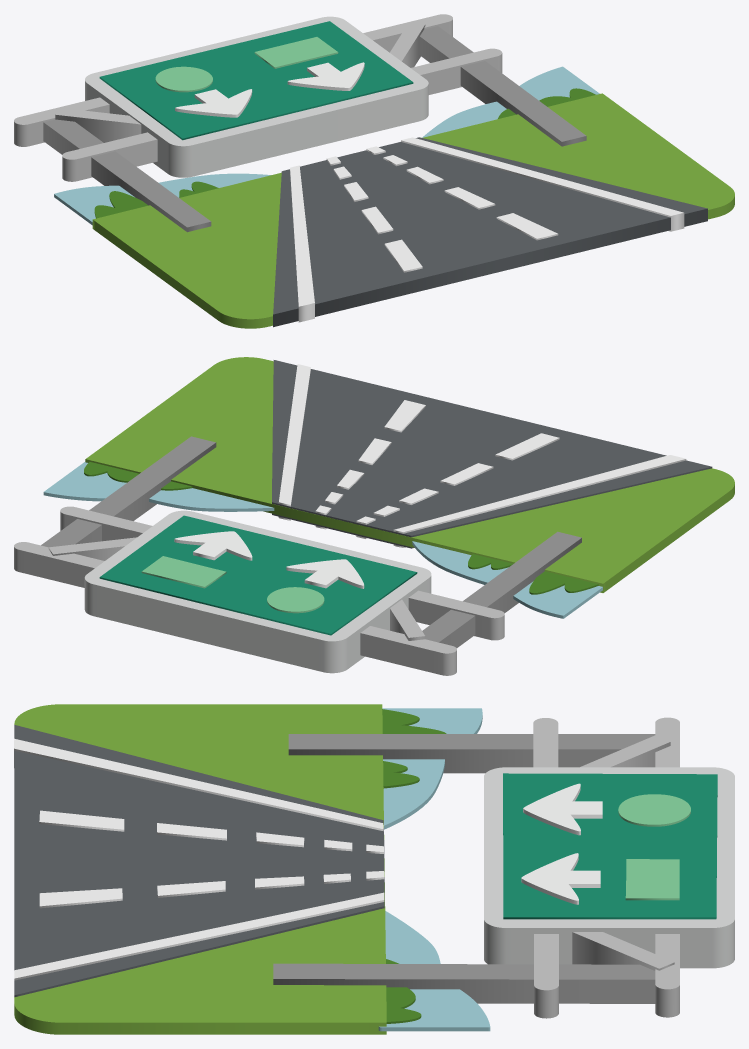
Rendered from emoji_u1f6e3.glb.
The picture shows the model from 3 angles, top to bottom: view 1: azimuth 30°, elevation 25°; view 2: azimuth 150°, elevation 25°; view 3: azimuth 270°, elevation 25°; orthographic projection. The views are drawn at different scales.
Visible parts, largest first — view 1: emoji_u1f6e3; view 2: emoji_u1f6e3; view 3: emoji_u1f6e3.
Part boxes in pixels (<box>): emoji_u1f6e3: <box>14,14,734,328</box>; emoji_u1f6e3: <box>14,357,734,675</box>; emoji_u1f6e3: <box>14,704,734,1034</box>.
Bounding box in the file's own units: 0.034 × 0.0026 × 0.0324.
